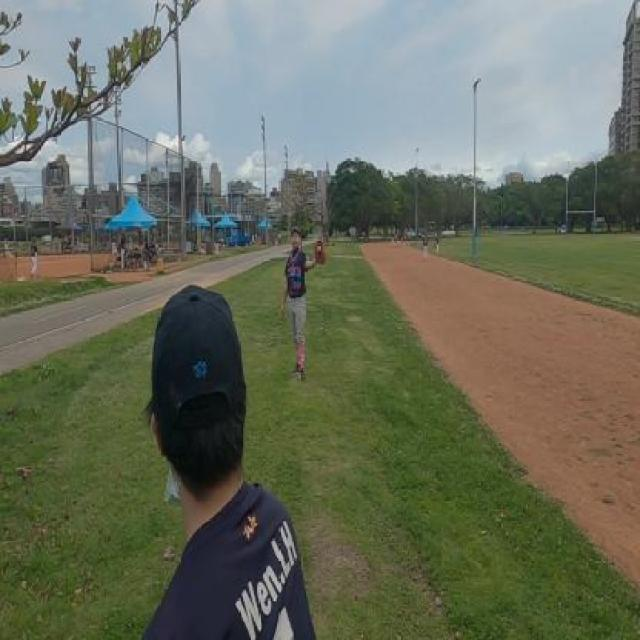baseball: (317, 245, 320, 252)
